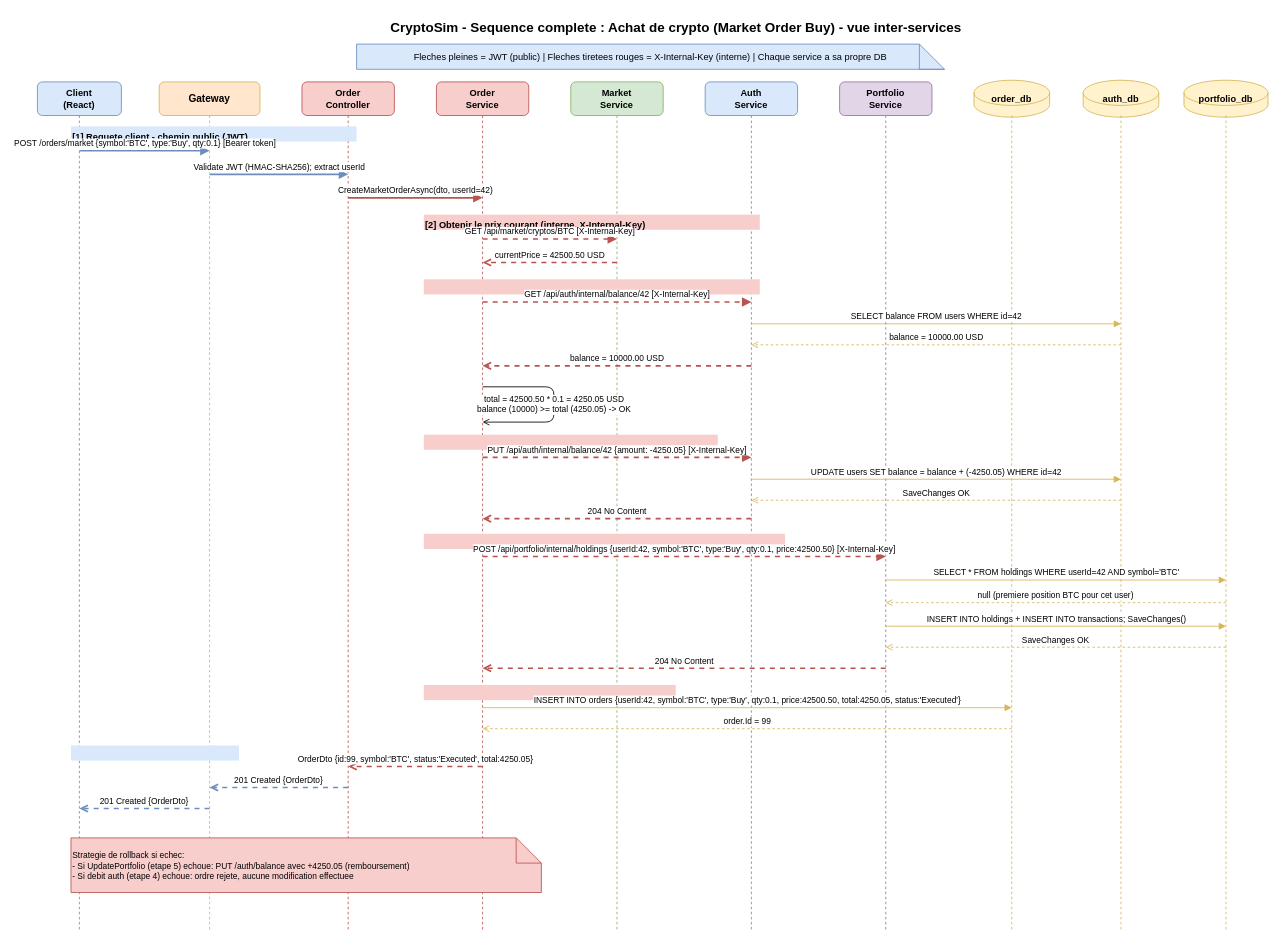
Some shapes in this 1283 by 946 pixel diagram are drawn without their labels. The box of each missing label's shape, as (x1, y1, x2, y2) in pixels:
[3] Verification du solde (interne, X-Internal-Key): (423, 279, 759, 294)
[4] Debit du solde (interne, X-Internal-Key): (423, 434, 717, 449)
[5] Mise a jour du portefeuille (interne, X-Internal-Key): (423, 533, 785, 549)
[6] Sauvegarde de l'ordre en base: (423, 685, 675, 700)
[7] Reponse au client: (71, 745, 239, 760)
